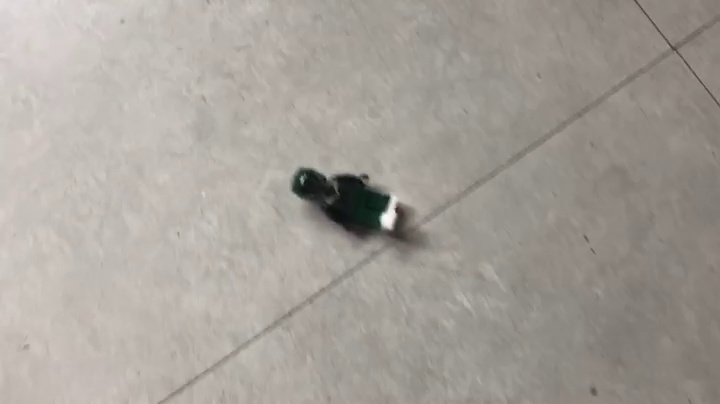people: (291, 167, 408, 241)
